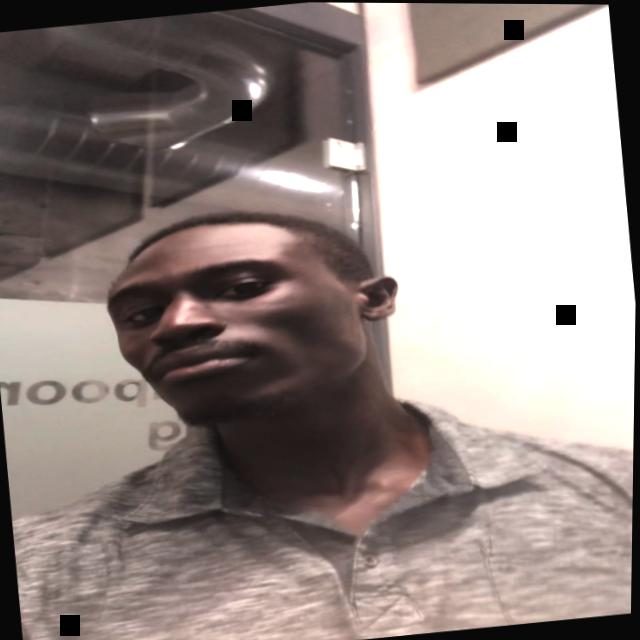NO-Mask: (106, 225, 385, 434)
